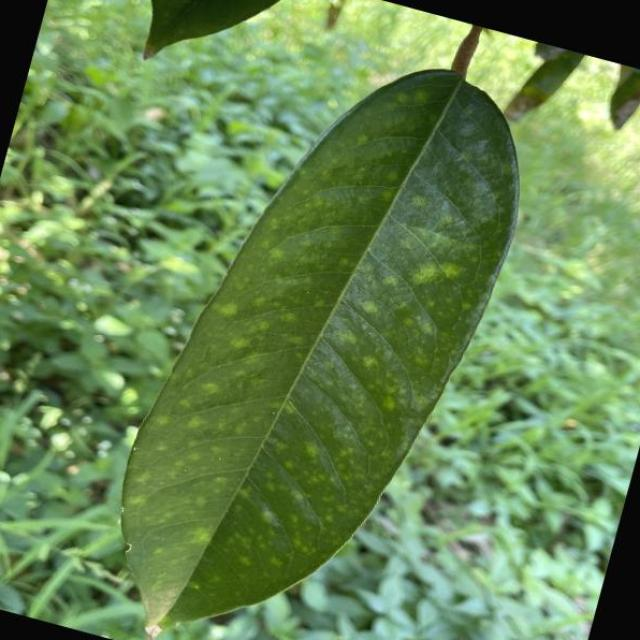Leaf Spot: (74, 7, 555, 640)
